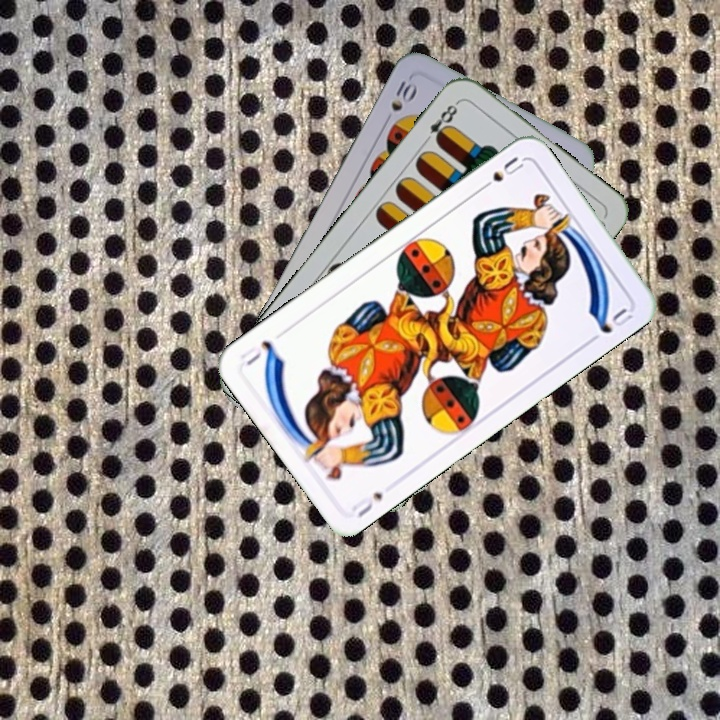E8: (419, 97, 462, 147)
S10: (386, 76, 419, 114)
SU: (475, 152, 527, 195), (347, 487, 386, 520)
